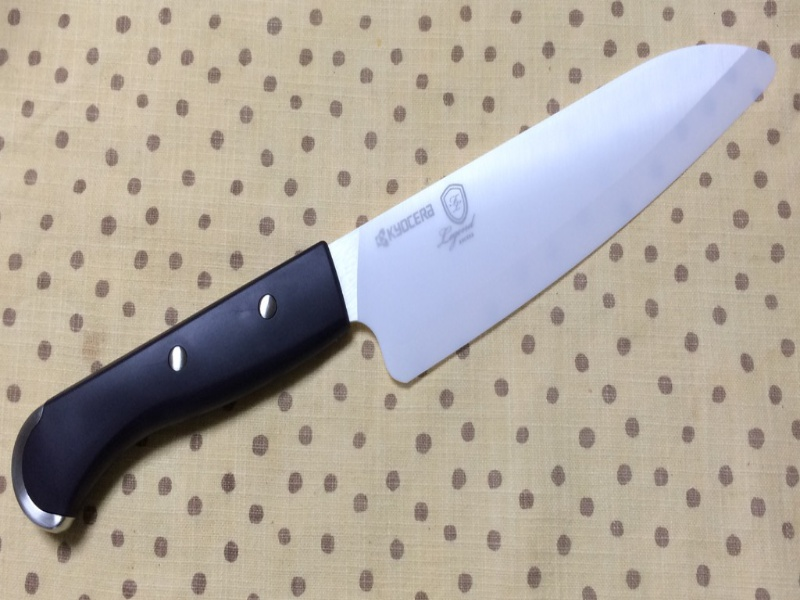knife: (9, 43, 776, 539)
